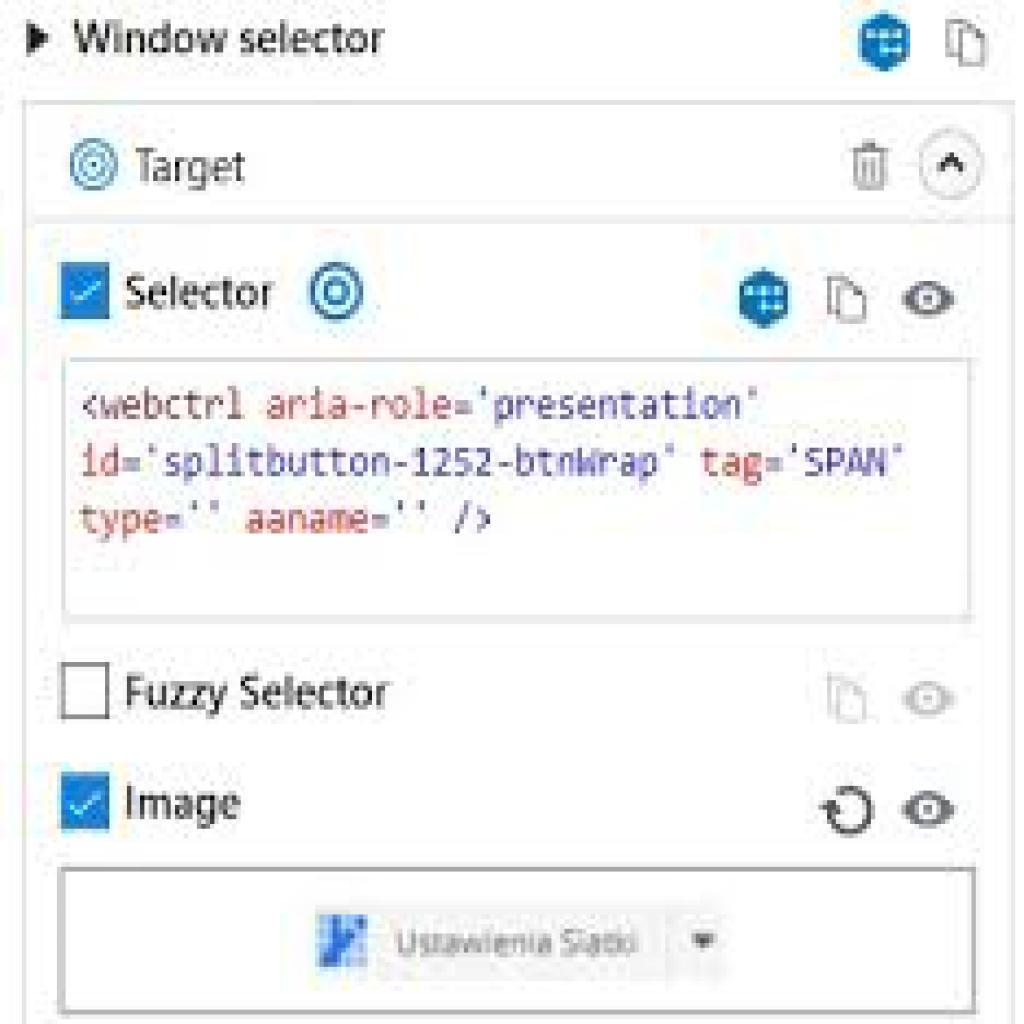checkbox: (60, 767, 118, 836), (56, 659, 115, 725), (59, 260, 115, 320)
icon: (850, 8, 927, 83), (724, 261, 797, 335), (918, 128, 985, 203), (821, 266, 879, 345), (819, 779, 883, 843), (941, 11, 997, 83), (69, 129, 124, 197), (901, 269, 956, 331), (895, 787, 963, 834), (902, 674, 961, 724), (821, 674, 870, 734), (846, 139, 895, 199), (15, 15, 62, 67), (681, 921, 727, 960)
